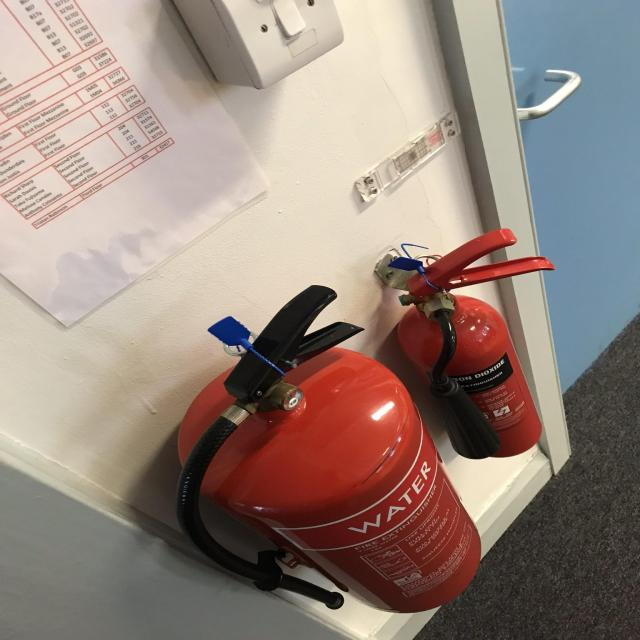fire_extinguisher: (169, 281, 485, 615), (391, 221, 562, 463)
